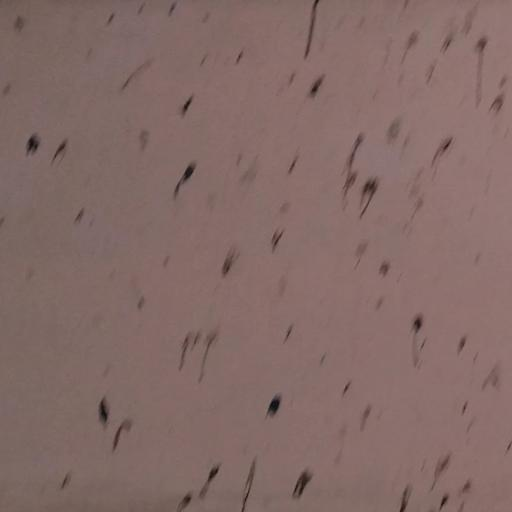stain: (9, 0, 512, 512)
